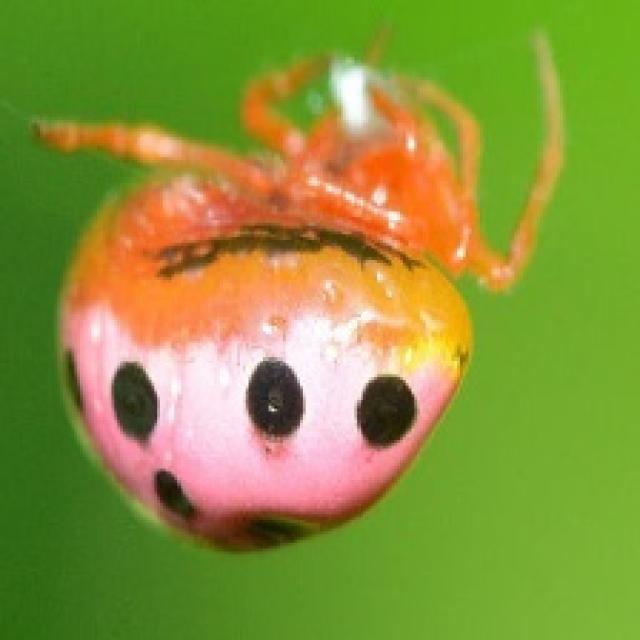Non venomous spider: (21, 23, 578, 587)
